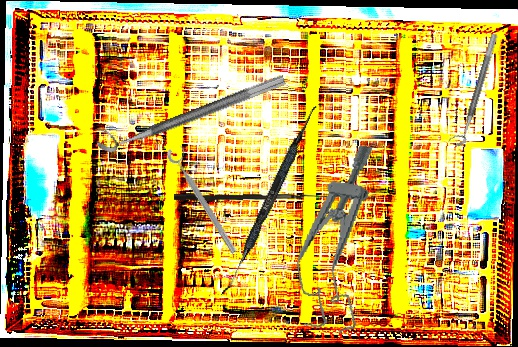Fixation Ring: (91, 59, 287, 157), (164, 141, 246, 257), (447, 30, 499, 149)
Hook Surgical: (173, 188, 342, 203)
Spatula Surgical: (221, 102, 318, 300)
Speculum: (286, 138, 387, 336)
